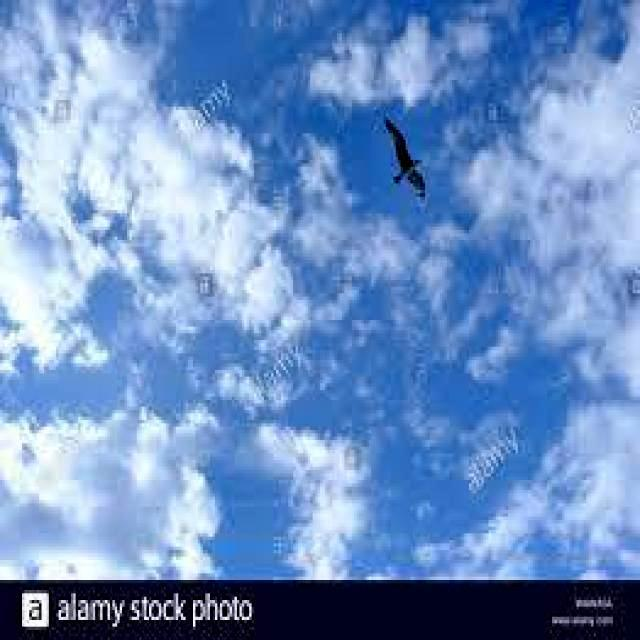bird: (382, 116, 428, 202)
